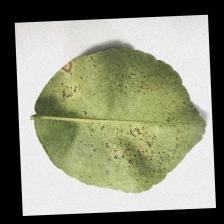canker: (48, 58, 168, 167)
